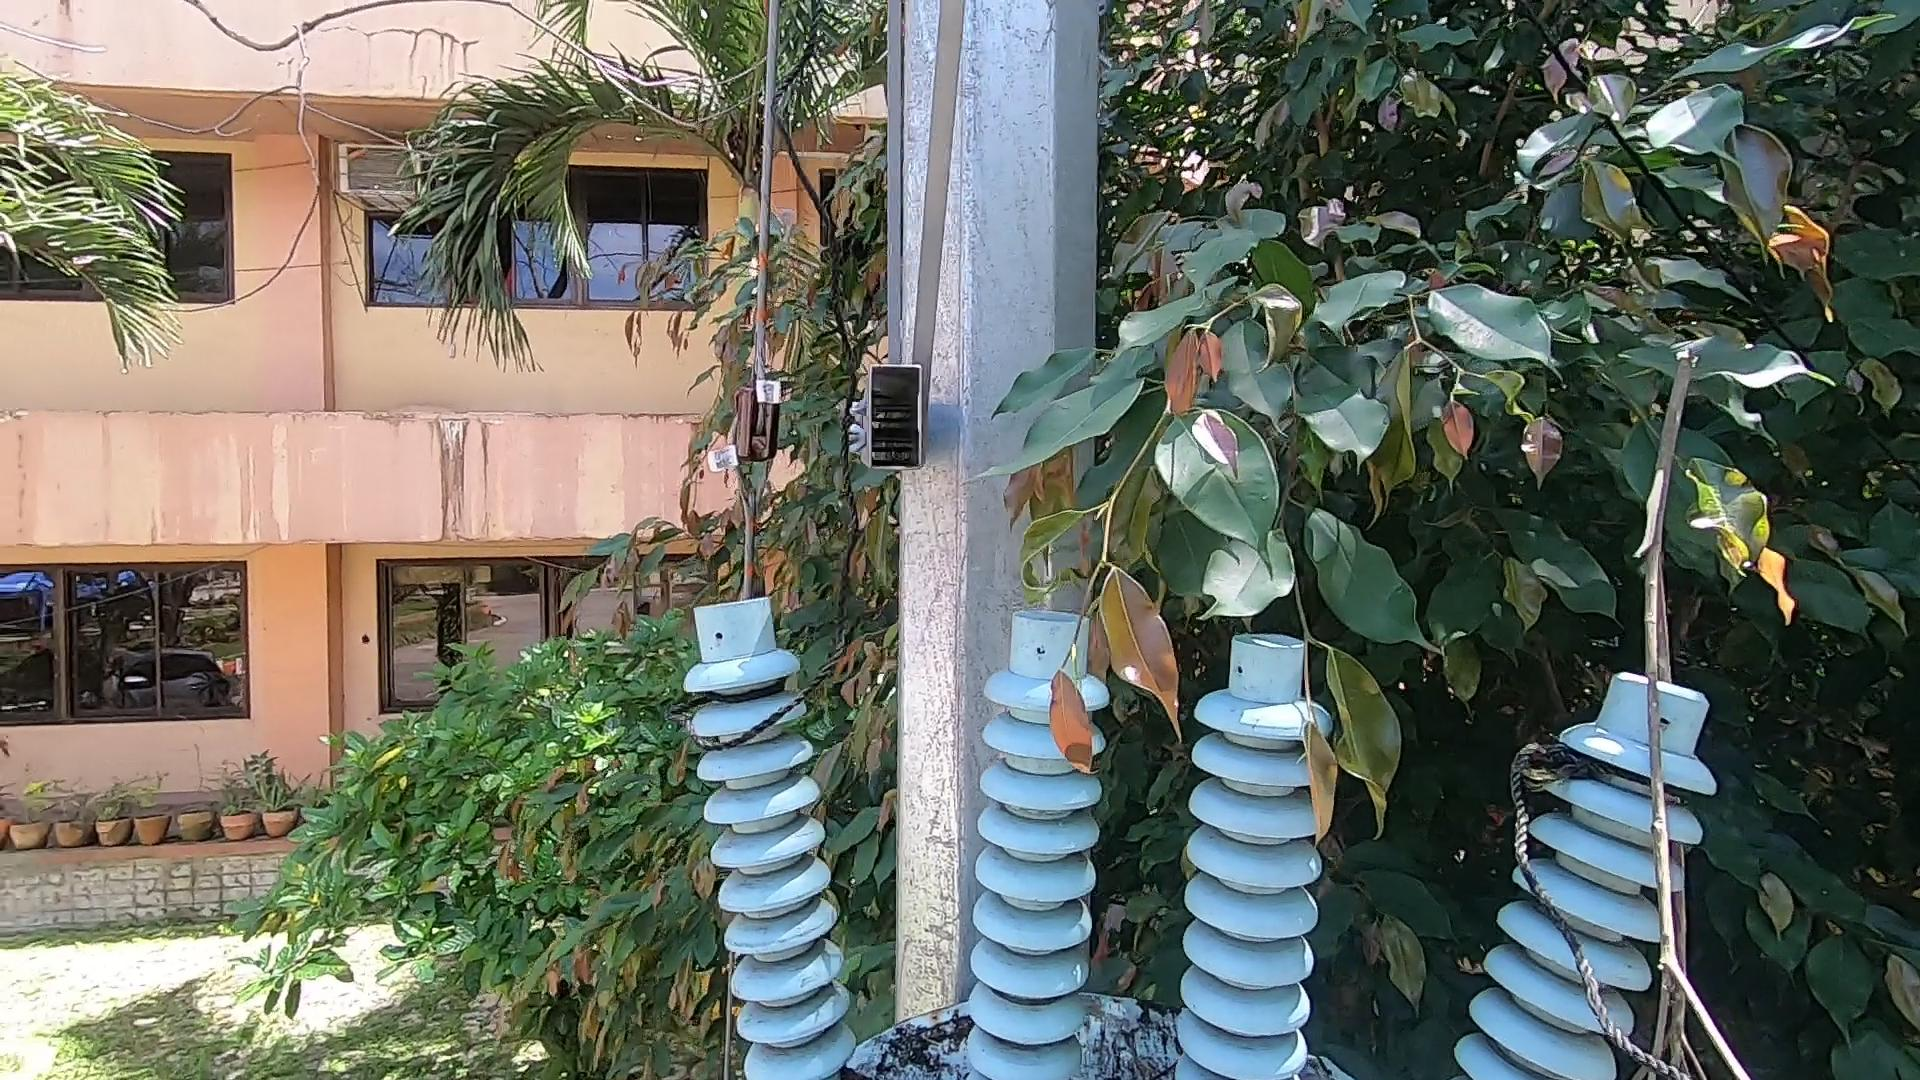tree branch: (1613, 344, 1756, 1073)
